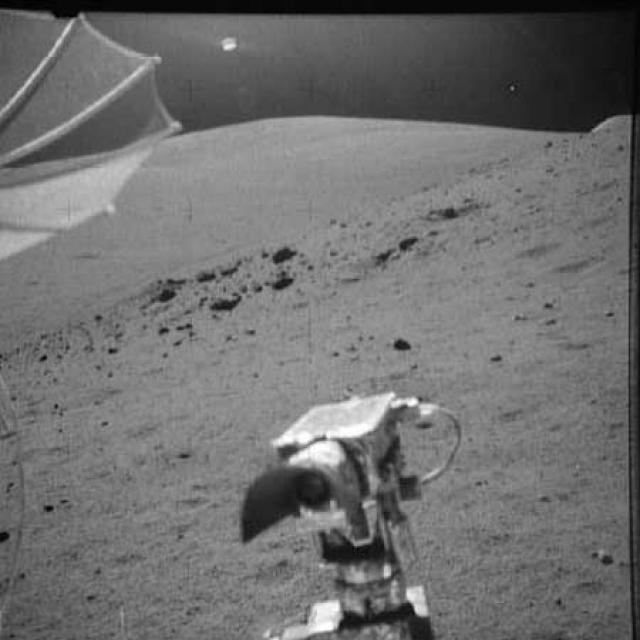artifact: (223, 377, 484, 638), (0, 0, 185, 284), (0, 374, 35, 639)
crater: (189, 258, 256, 282), (198, 291, 252, 315), (141, 288, 186, 308), (270, 242, 304, 266), (272, 274, 299, 296)
rock: (384, 329, 418, 359)
